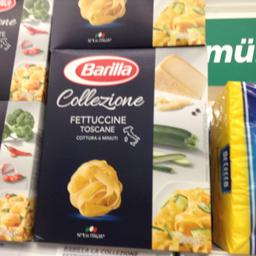pasta: (33, 46, 210, 254)
